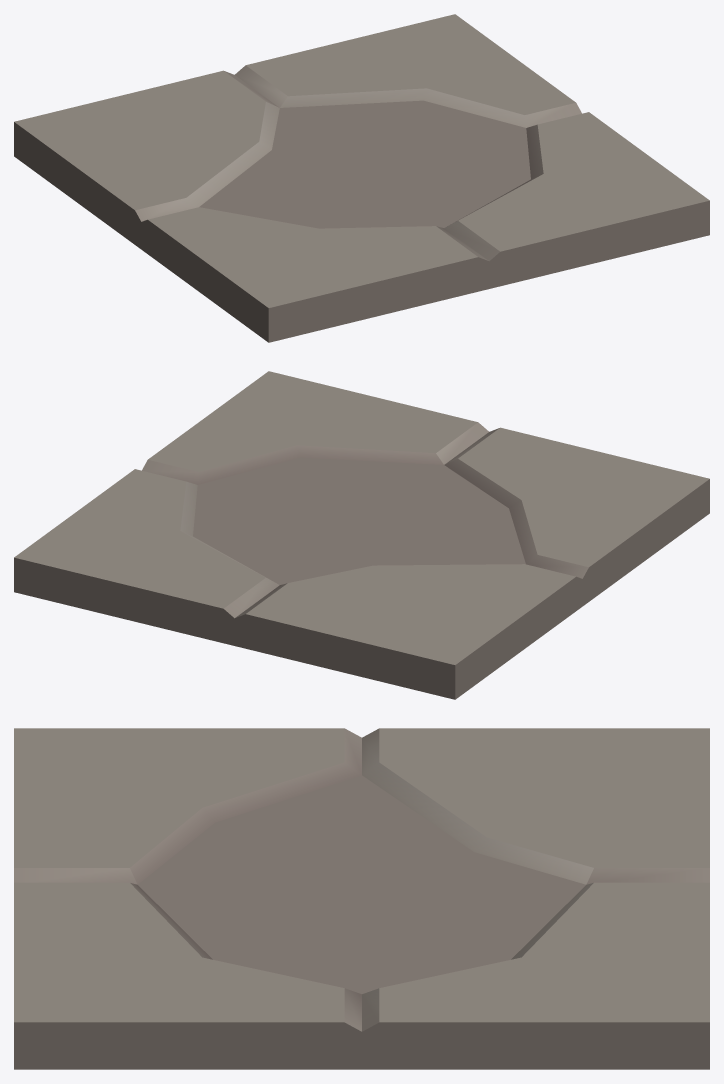
File: floor_tile_small_broken_b.gltf
3 renders of one model, top to bottom at view 1: azimuth 30°, elevation 25°; view 2: azimuth 150°, elevation 25°; view 3: azimuth 270°, elevation 25°, orthographic. The views are drawn at different scales.
Visible parts, largest first — view 1: floor_tile_small_broken_B; view 2: floor_tile_small_broken_B; view 3: floor_tile_small_broken_B.
Part boxes in pixels (box(x1,y1,x2,y2)): floor_tile_small_broken_B: box(14, 14, 709, 342); floor_tile_small_broken_B: box(14, 371, 709, 699); floor_tile_small_broken_B: box(14, 728, 709, 1069).
Bounding box in the file's own units: 2 × 0.15 × 2.
Materials: 1 (1 with a texture image).
